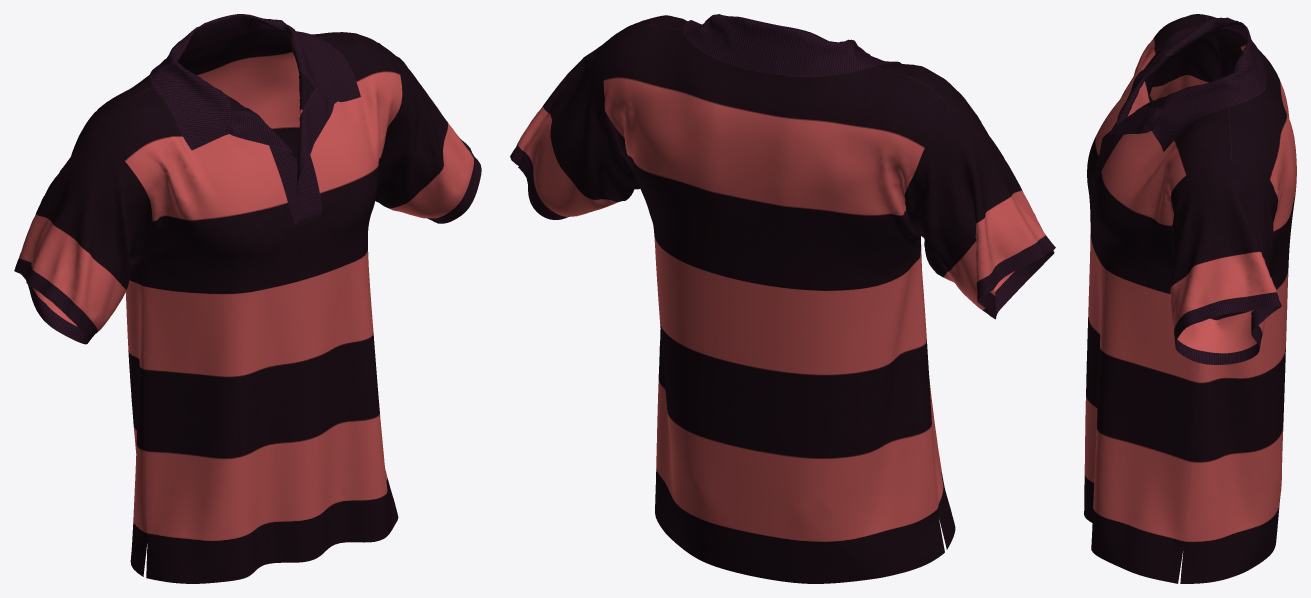
Rendered from t-shirt-red.glb.
The picture shows the model from 3 angles, left to right: view 1: azimuth 30°, elevation 25°; view 2: azimuth 150°, elevation 25°; view 3: azimuth 270°, elevation 25°; orthographic projection. The views are drawn at different scales.
Parts seen in each view (by area): view 1: AM_102_035_003; view 2: AM_102_035_003; view 3: AM_102_035_003.
Boxes of the visible parts, left/top/right/bottom form: AM_102_035_003: left=14, top=14, right=481, bottom=583; AM_102_035_003: left=510, top=14, right=1055, bottom=583; AM_102_035_003: left=1084, top=14, right=1296, bottom=583.
Bounding box in the file's own units: 71.86 × 75.6 × 29.33.
Materials: 1 (1 with a texture image).
